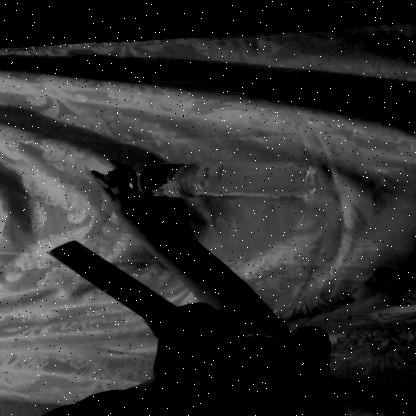Plastic Bottle: (81, 127, 349, 216)
